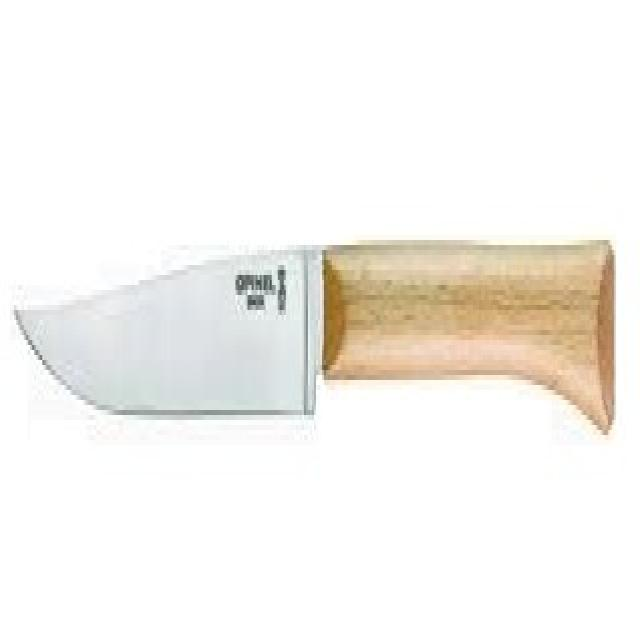knife: (14, 225, 621, 459)
